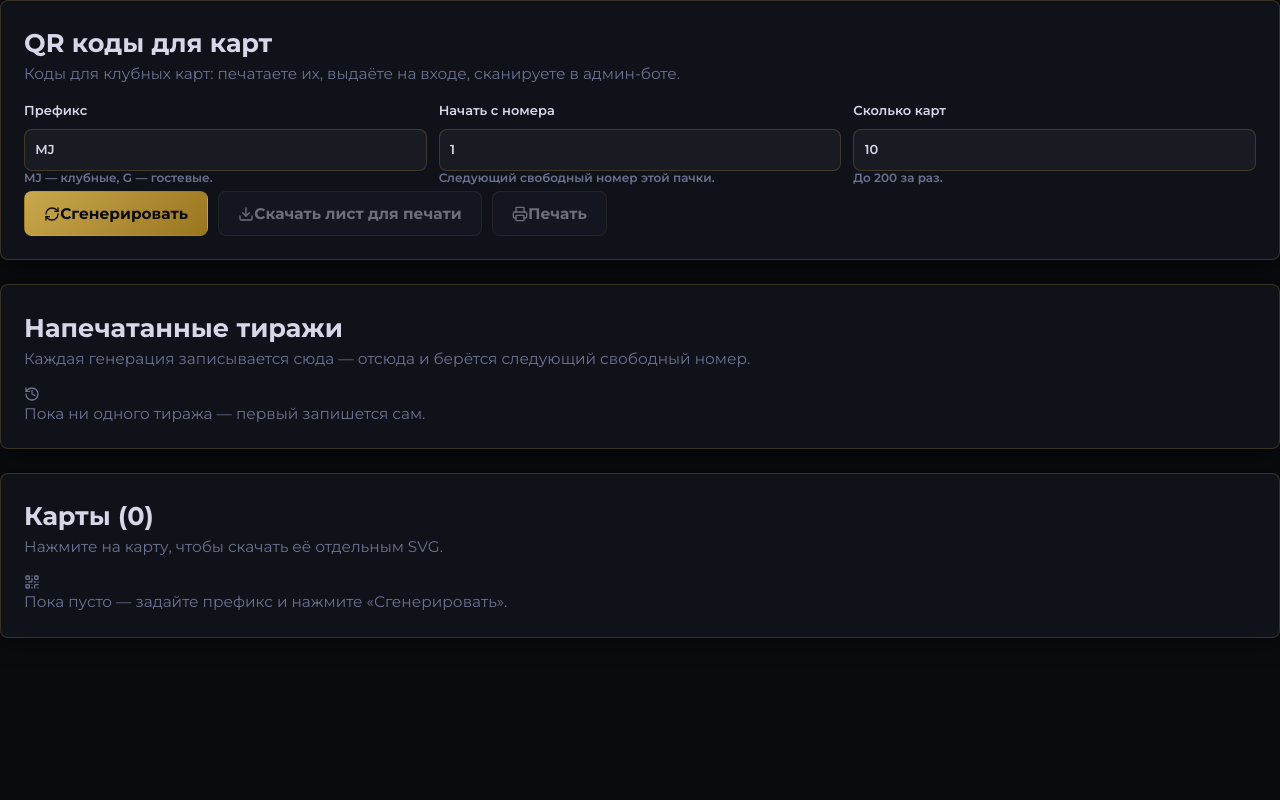
Test: QrCodesManager › says so when the run does not reach the history
Click the button "Сгенерировать": {"x": 116, "y": 214} [24,191,208,236]
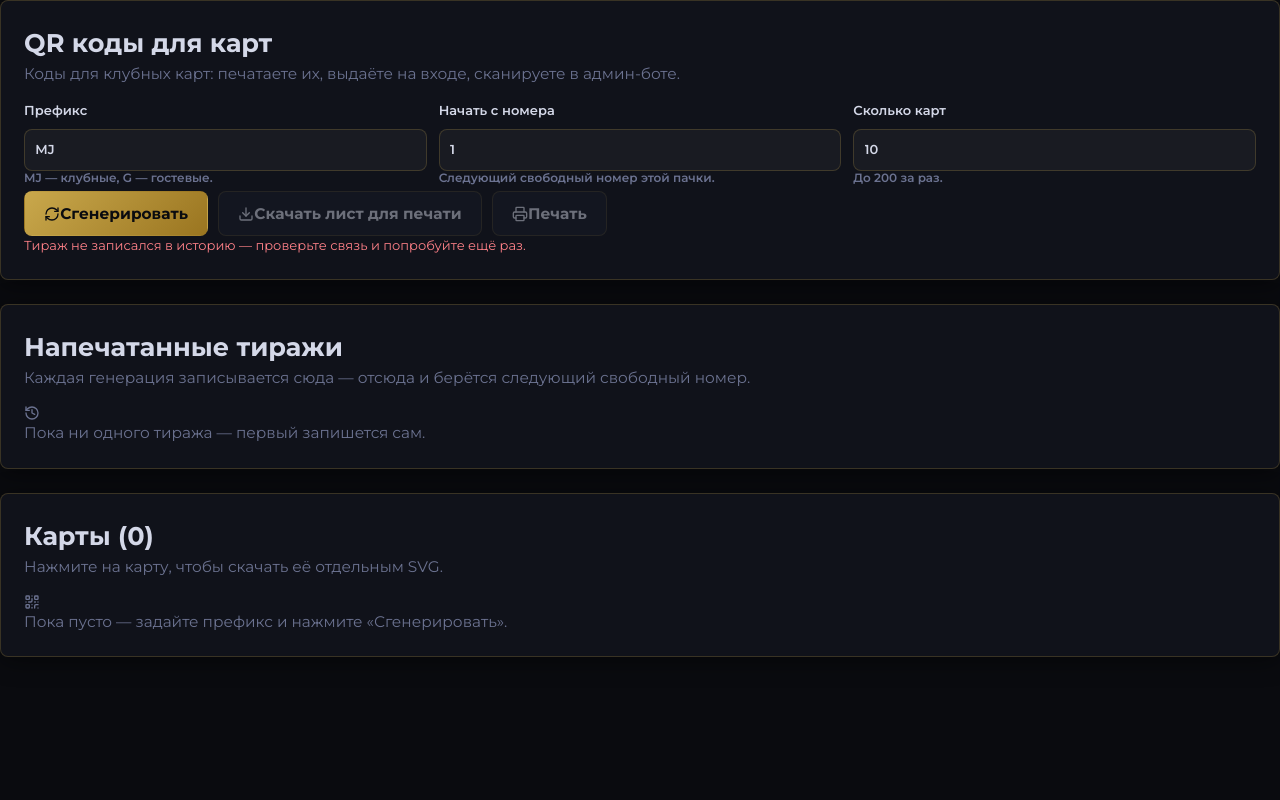
Expected: the heading "Карты (0)" is shown, [24,520,154,550]
Expected: the text "Тираж не записался" is shown, [24,238,526,254]
